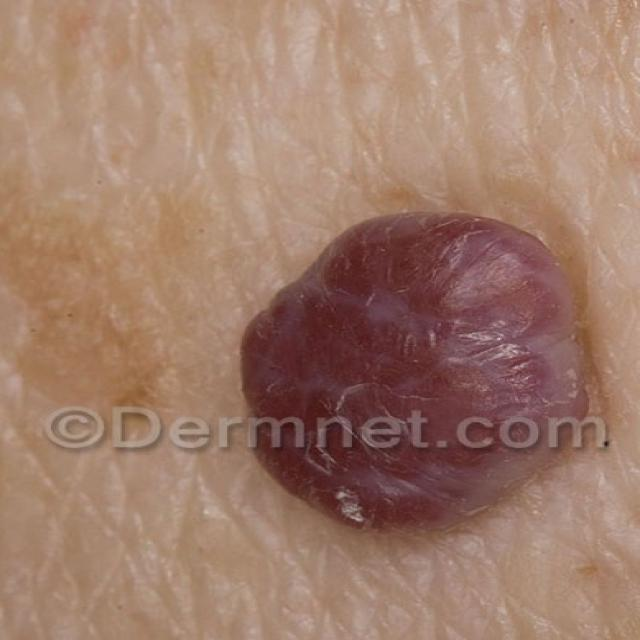Vascular Tumors: (216, 195, 630, 546)
